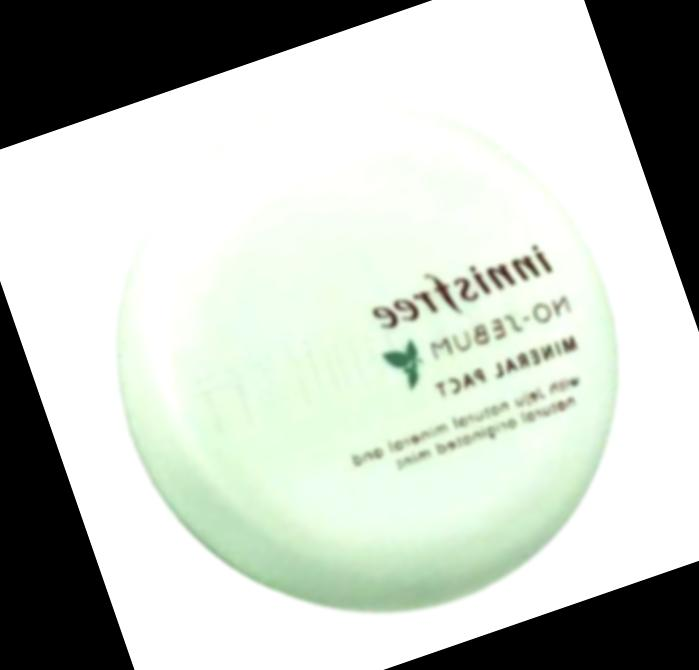cosmetic: (42, 29, 691, 670)
